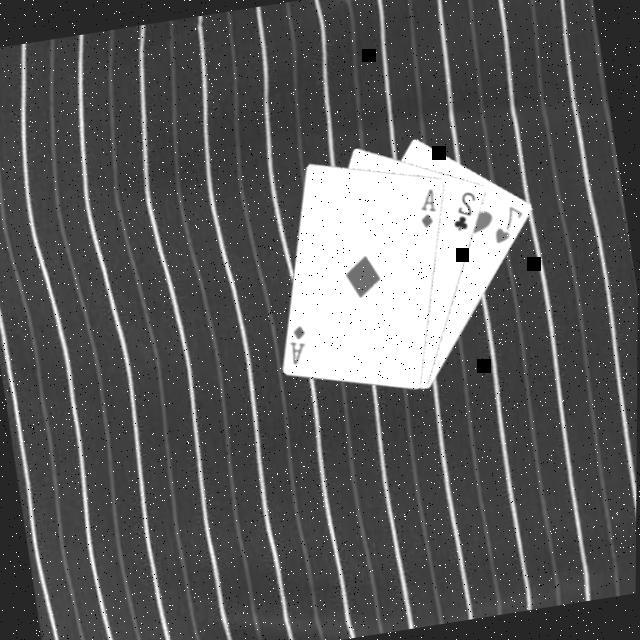2C: (445, 185, 483, 233)
7H: (486, 198, 528, 246)
AD: (413, 183, 442, 230), (284, 319, 312, 366)
